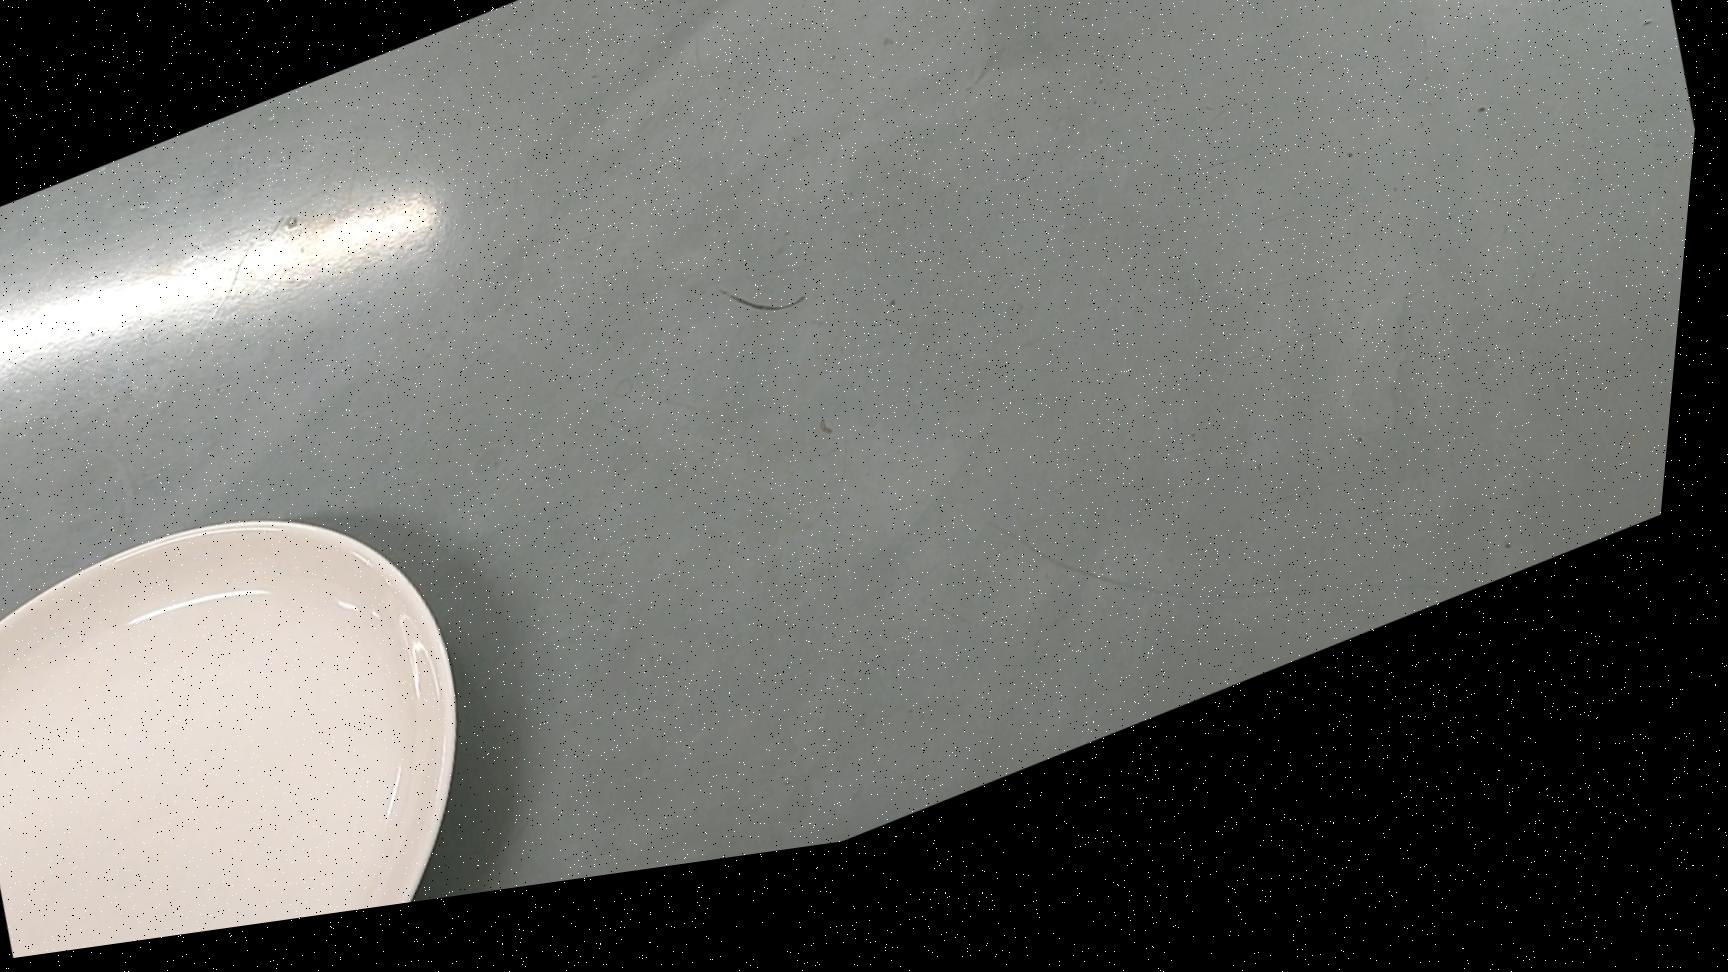plate: (0, 433, 568, 972)
